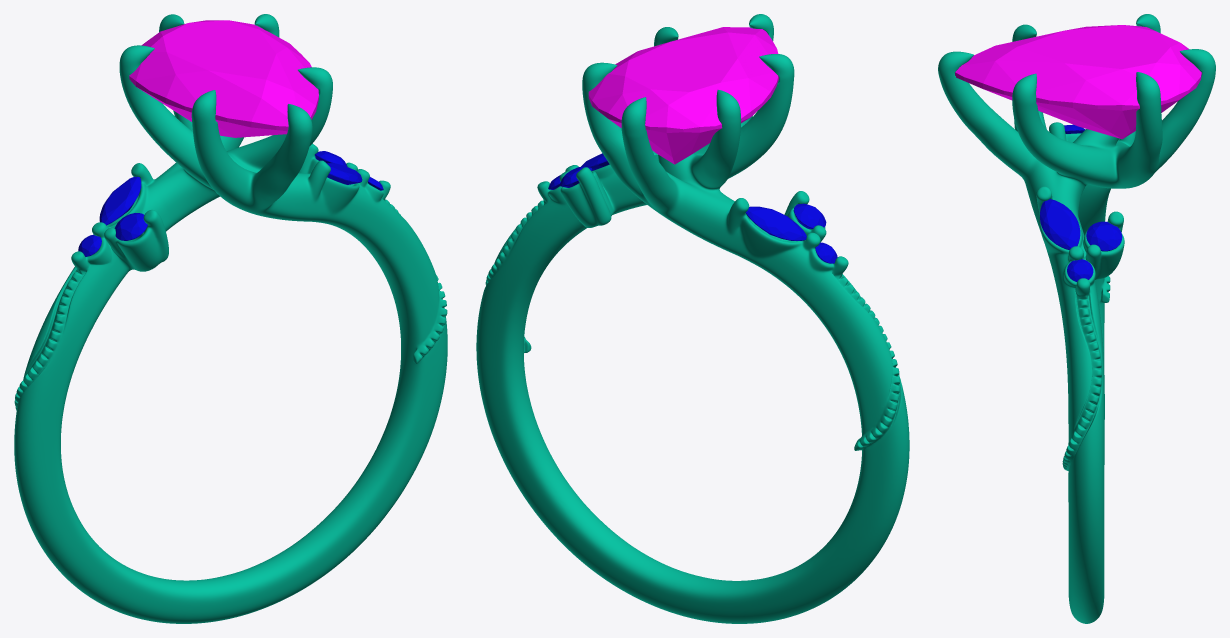
File: BE1D2468_PE_200ct_RENDER.glb
The picture shows the model from 3 angles, left to right: view 1: azimuth 30°, elevation 25°; view 2: azimuth 150°, elevation 25°; view 3: azimuth 270°, elevation 25°; orthographic projection.
Parts seen in each view (by area): view 1: Metal 01, CS_Diamond_Pear, Diamond_Marquise_side.001, Diamond_Round_side.002; view 2: Metal 01, CS_Diamond_Pear, Diamond_Marquise_side.001, Diamond_Round_side.002; view 3: Metal 01, CS_Diamond_Pear, Diamond_Marquise_side, Diamond_Round_side.001, Diamond_Round_side.
Part boxes in pixels (bbox=[...]): Metal 01: bbox=[14, 14, 447, 623]; CS_Diamond_Pear: bbox=[129, 20, 318, 137]; Diamond_Marquise_side.001: bbox=[99, 176, 141, 225]; Diamond_Round_side.002: bbox=[114, 213, 147, 240]; Metal 01: bbox=[476, 14, 909, 623]; CS_Diamond_Pear: bbox=[588, 27, 779, 164]; Diamond_Marquise_side.001: bbox=[745, 206, 806, 240]; Diamond_Round_side.002: bbox=[793, 203, 826, 228]; Metal 01: bbox=[938, 14, 1215, 623]; CS_Diamond_Pear: bbox=[955, 25, 1201, 139]; Diamond_Marquise_side: bbox=[1040, 199, 1080, 249]; Diamond_Round_side.001: bbox=[1086, 221, 1122, 251]; Diamond_Round_side: bbox=[1067, 259, 1093, 281].
Bounding box in the file's own units: 20.48 × 25.58 × 11.61.
